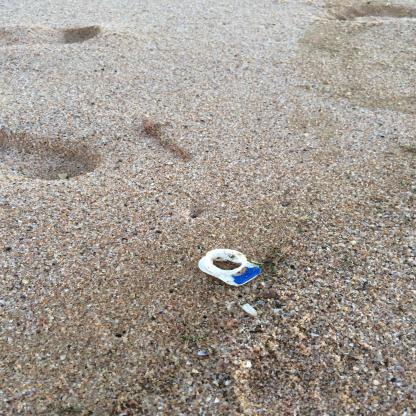plastik: (199, 249, 262, 287)
